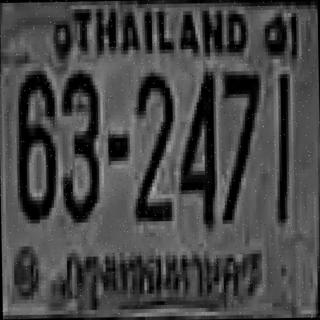N01: (273, 70, 290, 223)
N02: (132, 70, 173, 220)
N03: (59, 70, 100, 219)
N04: (176, 70, 215, 222)
N06: (14, 67, 55, 220)
N07: (220, 71, 261, 220)
P04: (62, 242, 258, 304)
